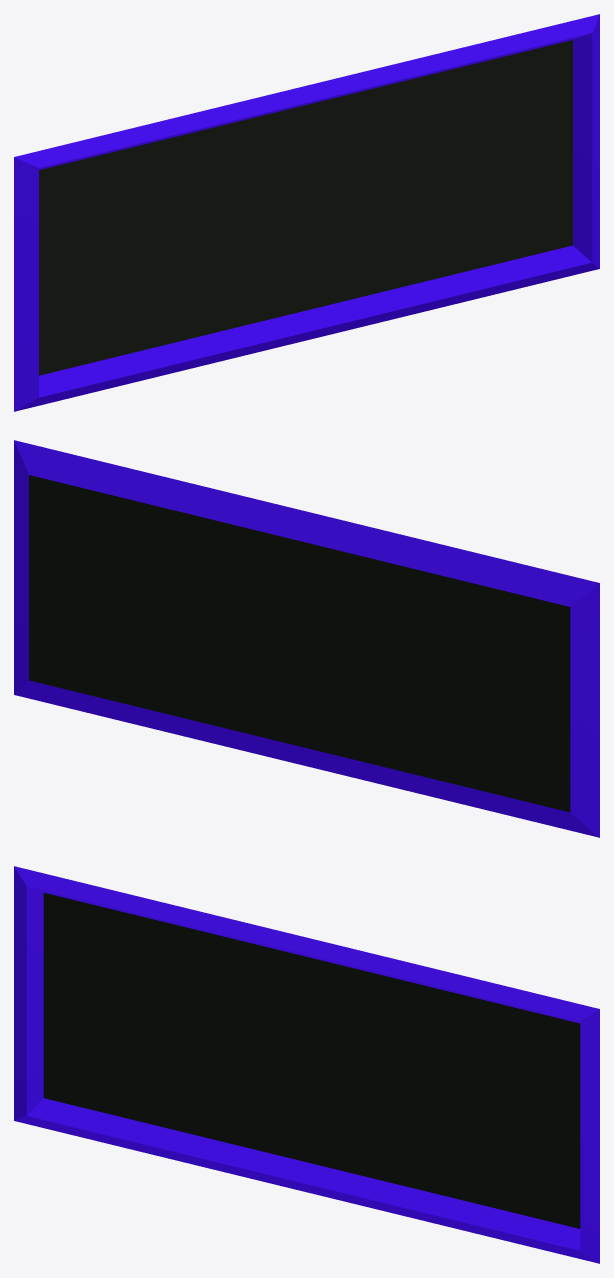
File: Neon_Rectangle_Sign.glb
3 views of the same model, one above another, from view 1: azimuth 30°, elevation 25°; view 2: azimuth 150°, elevation 25°; view 3: azimuth 330°, elevation 25° (orthographic).
Parts seen in each view (by area): view 1: squareSign; view 2: squareSign; view 3: squareSign.
Boxes of the visible parts, x1=… form: squareSign: x1=14, y1=14, x2=599, y2=411; squareSign: x1=14, y1=440, x2=599, y2=837; squareSign: x1=14, y1=866, x2=599, y2=1263.
Size of the model in its own units: 1.2 by 0.4995 by 0.0433.
Materials: 1 (1 with a texture image).
